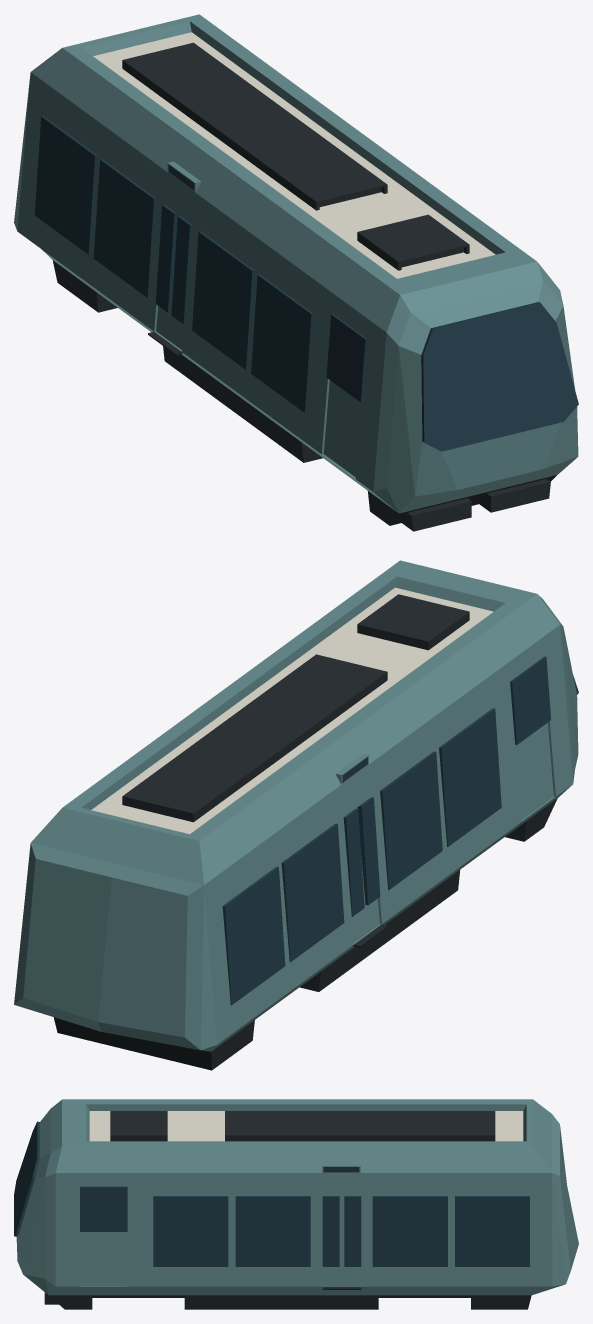
The model's file is Train.glb.
The picture shows the model from 3 angles, top to bottom: view 1: azimuth 30°, elevation 25°; view 2: azimuth 150°, elevation 25°; view 3: azimuth 270°, elevation 25°; orthographic projection. The views are drawn at different scales.
Parts seen in each view (by area): view 1: Train; view 2: Train; view 3: Train.
Boxes of the visible parts, x1,y1,x2,y2 form: Train: [14, 14, 578, 531]; Train: [14, 560, 578, 1070]; Train: [14, 1099, 578, 1309].
Bounding box in the file's own units: 2.6 × 2.69 × 8.58.
